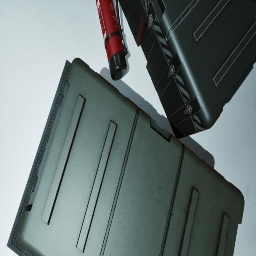FireExtinguisher ]: (96, 0, 128, 81)
